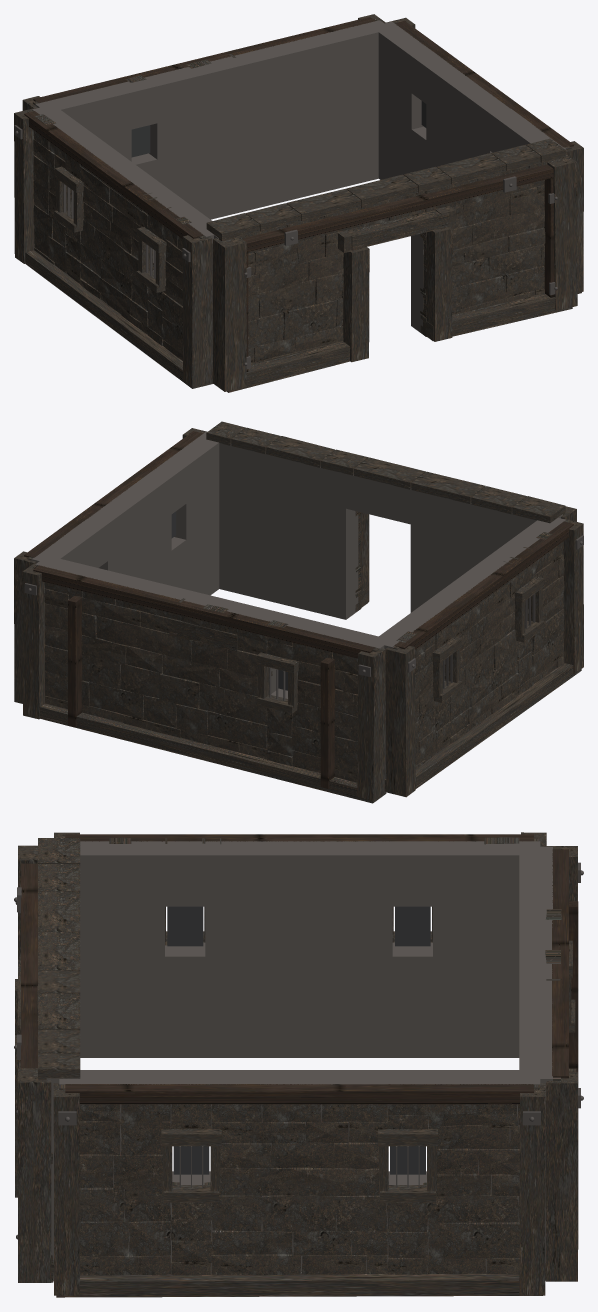
The model's file is full_workshop_preview.glb.
The picture shows the model from 3 angles, top to bottom: view 1: azimuth 30°, elevation 25°; view 2: azimuth 150°, elevation 25°; view 3: azimuth 270°, elevation 25°; orthographic projection. The views are drawn at different scales.
Visible parts, largest first — view 1: ASSET_REAR_REAR_solid_0_structural, ASSET_RIGHT_RIGHT_solid_2_structural, ASSET_RIGHT_RIGHT_solid_4_structural, ASSET_LoadBearingCornerPier_-1, ASSET_TimberTopBrace, ASSET_LEFT_LEFT_load_corner_1, ASSET_LoadBearingCornerPier_1, ASSET_REAR_REAR_solid_2_structural, ASSET_LEFT_LEFT_continuous_plinth, ASSET_LEFT_LEFT_wall_plate, ASSET_LoadBearingDoorPier_1, ASSET_LoadBearingDoorPier_-1 (+56 smaller); view 2: ASSET_Structural_right, ASSET_Structural_left, ASSET_RIGHT_RIGHT_solid_2_structural, ASSET_RIGHT_RIGHT_solid_0_structural, ASSET_REAR_REAR_continuous_plinth, ASSET_REAR_REAR_wall_plate, ASSET_LEFT_LEFT_load_corner_-1, ASSET_REAR_REAR_load_corner_1, ASSET_LEFT_LEFT_continuous_plinth, ASSET_LEFT_LEFT_wall_plate, ASSET_REAR_REAR_load_corner_-1, ASSET_REAR_REAR_solid_0_structural (+67 smaller); view 3: ASSET_LEFT_LEFT_solid_2_structural, ASSET_LEFT_LEFT_solid_0_structural, ASSET_LEFT_LEFT_solid_4_structural, ASSET_RIGHT_RIGHT_continuous_plinth, ASSET_RIGHT_RIGHT_wall_plate, ASSET_LoadBearingCornerPier_1, ASSET_REAR_REAR_load_corner_-1, ASSET_REAR_REAR_solid_0_structural, ASSET_RIGHT_RIGHT_load_corner_1, ASSET_RIGHT_RIGHT_load_corner_-1, ASSET_LEFT_LEFT_low_1_structural, ASSET_LEFT_LEFT_low_3_structural (+78 smaller).
Boxes of the visible parts, x1,y1,x2,y2 form: ASSET_REAR_REAR_solid_0_structural: (145,20,391,219); ASSET_RIGHT_RIGHT_solid_2_structural: (426,62,509,168); ASSET_RIGHT_RIGHT_solid_4_structural: (371,21,431,179); ASSET_LoadBearingCornerPier_-1: (212,237,246,391); ASSET_TimberTopBrace: (242,164,553,252); ASSET_LEFT_LEFT_load_corner_1: (182,235,212,386); ASSET_LoadBearingCornerPier_1: (547,154,577,311); ASSET_REAR_REAR_solid_2_structural: (35,83,131,161); ASSET_LEFT_LEFT_continuous_plinth: (25,250,213,388); ASSET_LEFT_LEFT_wall_plate: (24,111,203,238); ASSET_LoadBearingDoorPier_1: (423,227,452,341); ASSET_LoadBearingDoorPier_-1: (342,247,369,362); ASSET_Structural_right: (219,443,358,619); ASSET_Structural_left: (410,489,562,612); ASSET_RIGHT_RIGHT_solid_2_structural: (87,472,171,585); ASSET_RIGHT_RIGHT_solid_0_structural: (165,432,219,595); ASSET_REAR_REAR_continuous_plinth: (39,703,386,803); ASSET_REAR_REAR_wall_plate: (33,565,375,658); ASSET_LEFT_LEFT_load_corner_-1: (385,646,415,797); ASSET_REAR_REAR_load_corner_1: (357,648,385,800); ASSET_LEFT_LEFT_continuous_plinth: (385,663,581,791); ASSET_LEFT_LEFT_wall_plate: (394,521,573,649); ASSET_REAR_REAR_load_corner_-1: (22,563,45,719); ASSET_REAR_REAR_solid_0_structural: (35,555,281,693); ASSET_LEFT_LEFT_solid_2_structural: (205,841,392,1057); ASSET_LEFT_LEFT_solid_0_structural: (433,841,540,1057); ASSET_LEFT_LEFT_solid_4_structural: (80,841,164,1057); ASSET_RIGHT_RIGHT_continuous_plinth: (56,1270,542,1297); ASSET_RIGHT_RIGHT_wall_plate: (65,1084,533,1104); ASSET_LoadBearingCornerPier_1: (18,1068,51,1282); ASSET_REAR_REAR_load_corner_-1: (546,1072,577,1281); ASSET_REAR_REAR_solid_0_structural: (519,920,552,1281); ASSET_RIGHT_RIGHT_load_corner_1: (519,1083,545,1295); ASSET_RIGHT_RIGHT_load_corner_-1: (53,1083,79,1295); ASSET_LEFT_LEFT_low_1_structural: (392,942,432,1057); ASSET_LEFT_LEFT_low_3_structural: (165,942,205,1057).
Bounding box in the file's own units: 9.13 × 3.39 × 8.16.
7 materials, 4 textured.
